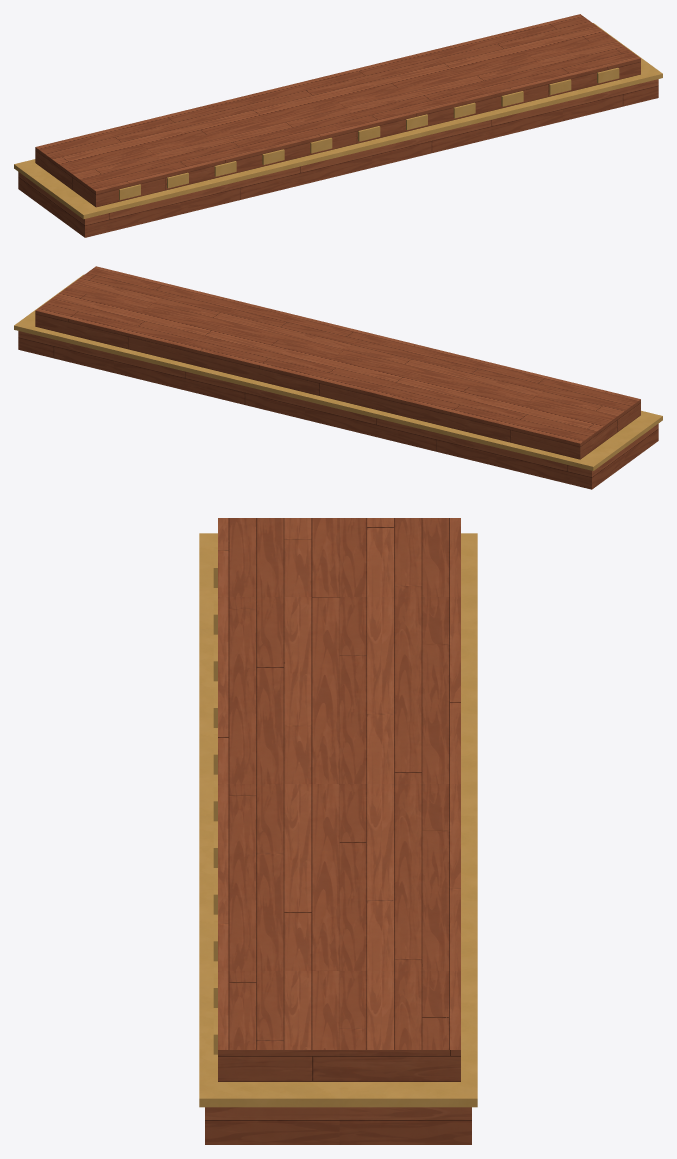
File: SM_Theater_Organ_Plinth.fbx
The picture shows the model from 3 angles, top to bottom: view 1: azimuth 30°, elevation 25°; view 2: azimuth 150°, elevation 25°; view 3: azimuth 270°, elevation 25°; orthographic projection. The views are drawn at different scales.
Parts seen in each view (by area): view 1: SM_Theater_Organ_Plinth_LOD0; view 2: SM_Theater_Organ_Plinth_LOD0; view 3: SM_Theater_Organ_Plinth_LOD0.
Boxes of the visible parts, left/top/right/bottom form: SM_Theater_Organ_Plinth_LOD0: left=14, top=14, right=662, bottom=237; SM_Theater_Organ_Plinth_LOD0: left=14, top=266, right=662, bottom=489; SM_Theater_Organ_Plinth_LOD0: left=199, top=518, right=477, bottom=1144.
Size of what is drawn, in the model's own units: 12.12 by 0.81 by 2.52.
